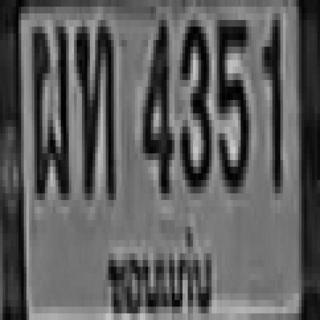A23: (74, 10, 120, 223)
A28: (26, 9, 74, 222)
N01: (259, 12, 294, 218)
N03: (177, 9, 214, 221)
N04: (138, 16, 178, 218)
N05: (211, 0, 255, 220)
P18: (96, 222, 234, 320)
